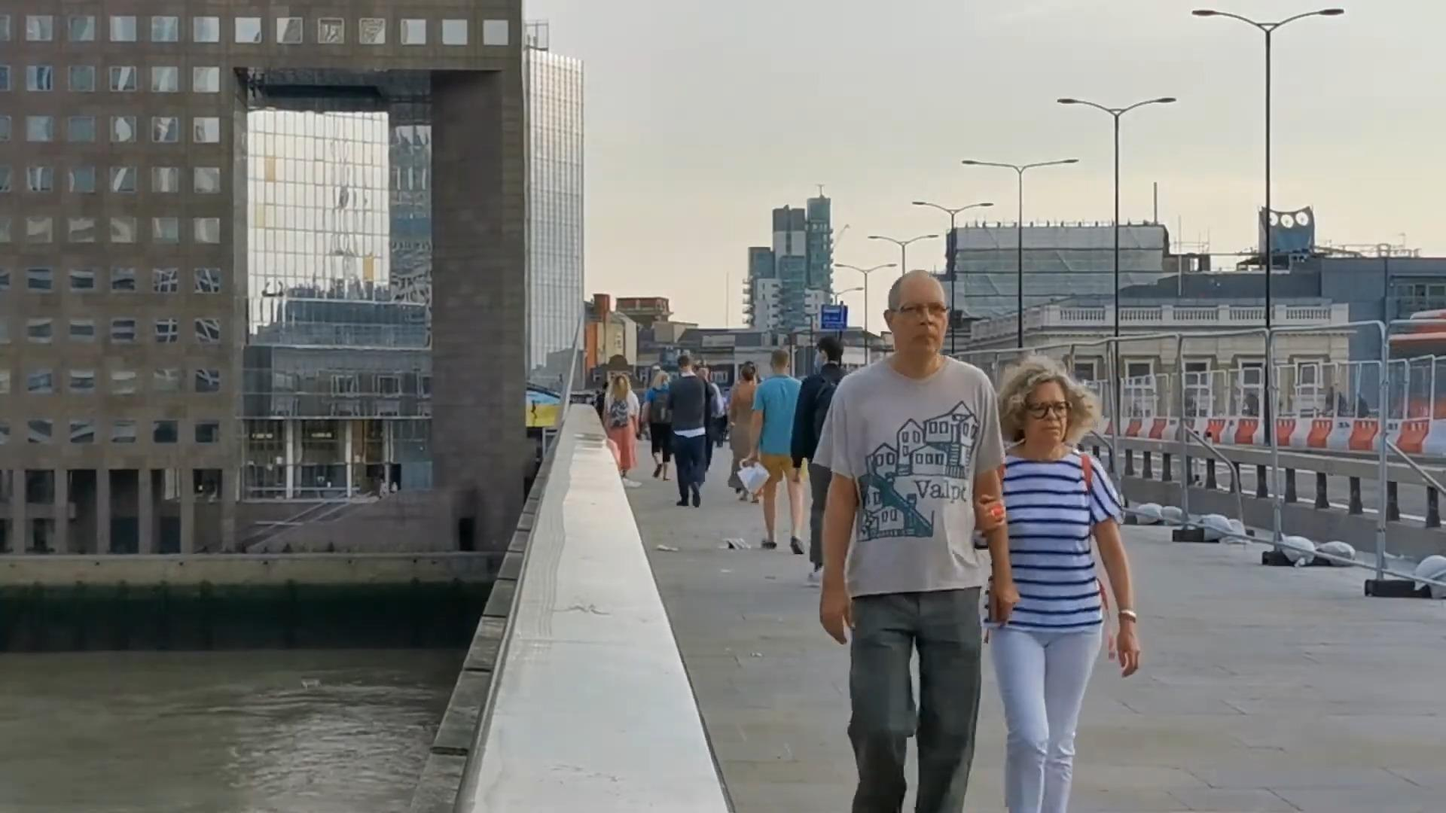no-helmet: (997, 356, 1100, 448), (883, 271, 951, 357), (814, 336, 843, 372), (607, 374, 631, 399), (770, 348, 790, 374), (652, 370, 671, 390), (676, 355, 693, 374)
